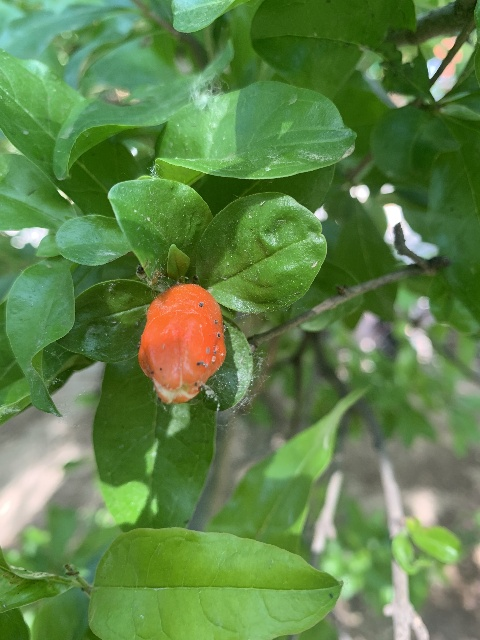bud: (138, 283, 225, 403)
